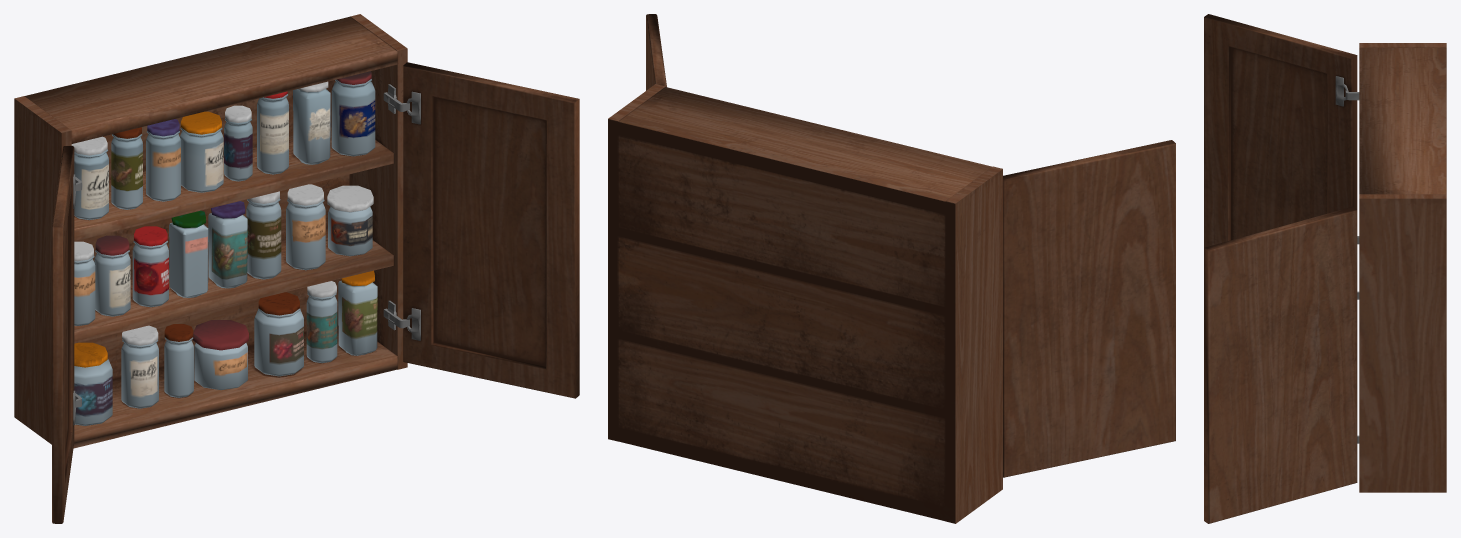
Rendered from Cupboard Set.fbx.
3 views of the same model, side by side, from view 1: azimuth 30°, elevation 25°; view 2: azimuth 150°, elevation 25°; view 3: azimuth 270°, elevation 25° (orthographic). The views are drawn at different scales.
Parts seen in each view (by area): view 1: Cupboard Set; view 2: Cupboard Set; view 3: Cupboard Set.
Boxes of the visible parts, <box> form: Cupboard Set: <box>14,14,579,523</box>; Cupboard Set: <box>608,14,1175,523</box>; Cupboard Set: <box>1204,14,1446,523</box>.
Size of the model in its own units: 111 by 64.14 by 48.03.
